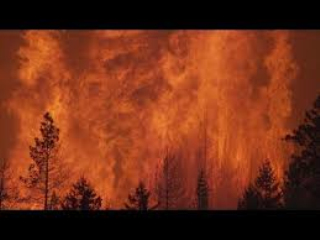fire: (12, 35, 300, 202)
